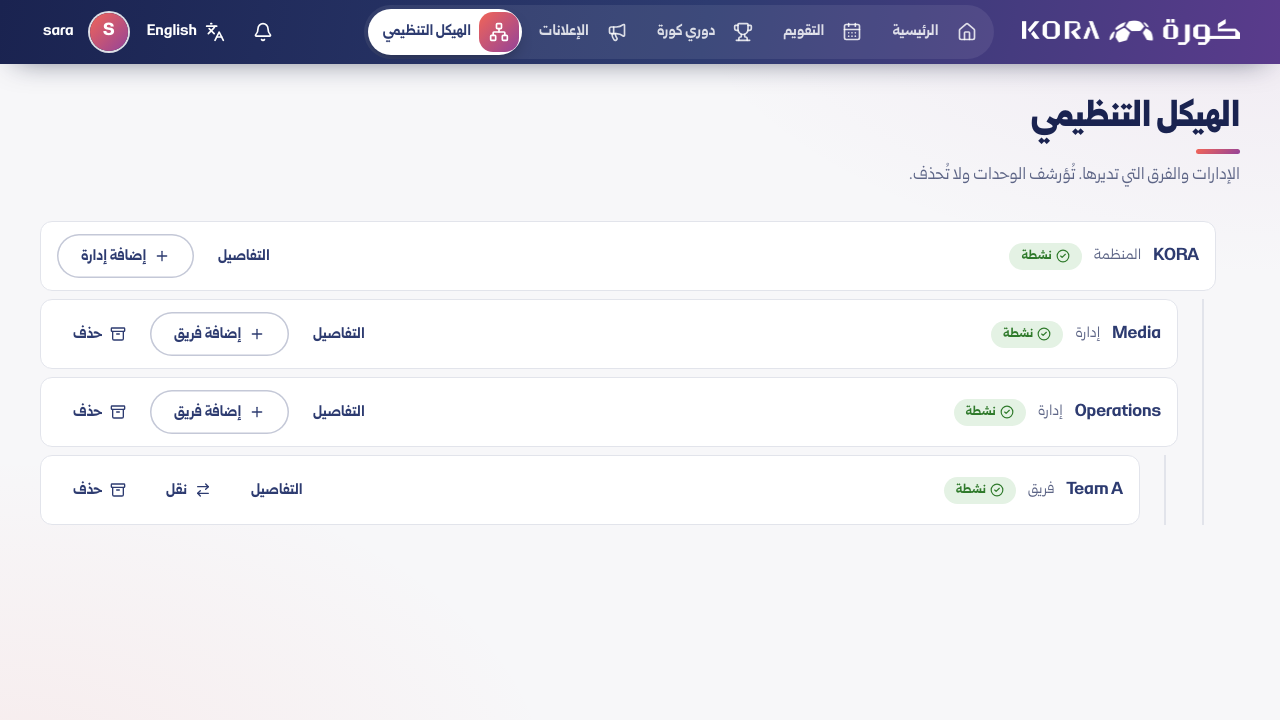
Test: Organization page › explains the effect before archiving and shows the server conflict
Click the button "حذف" in the row of "Operations".
click(100, 412)  # box x1=57 y1=390 x2=142 y2=434
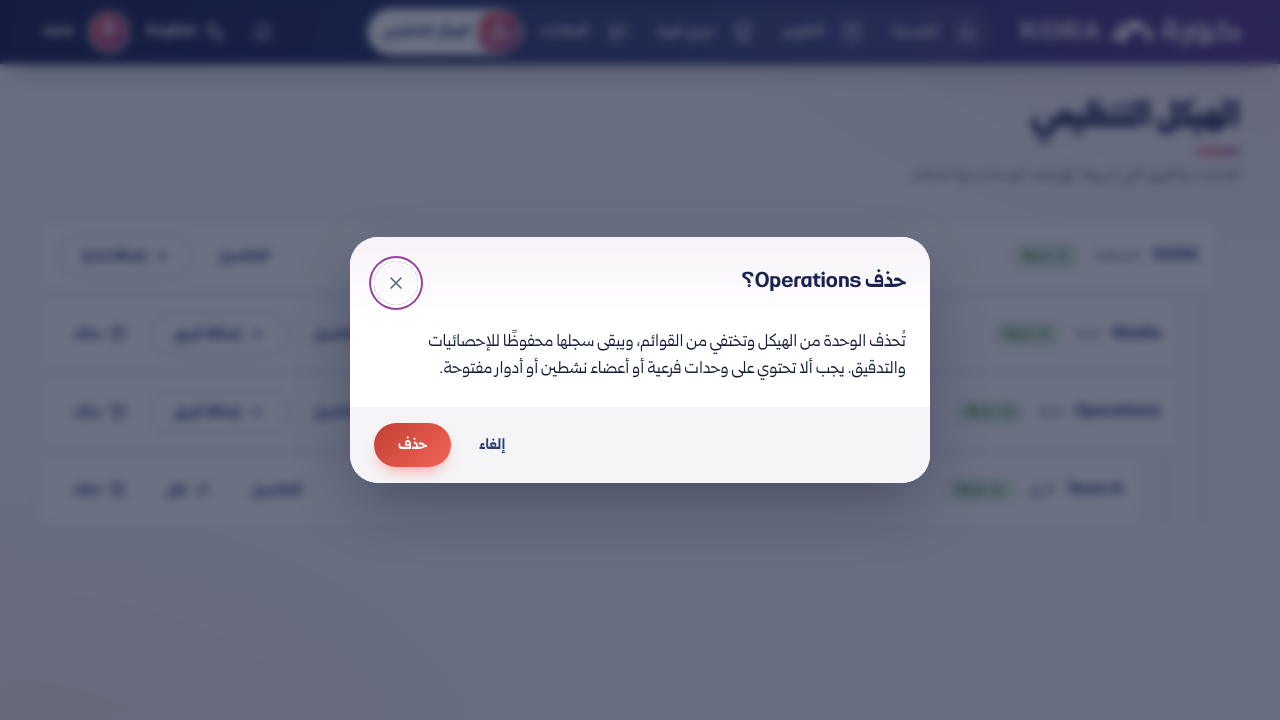
Expected: the text "يبقى سجلها محفوظًا" is shown, x1=428 y1=331 x2=906 y2=381
Click the button "حذف".
click(413, 445)  # box x1=374 y1=423 x2=451 y2=467
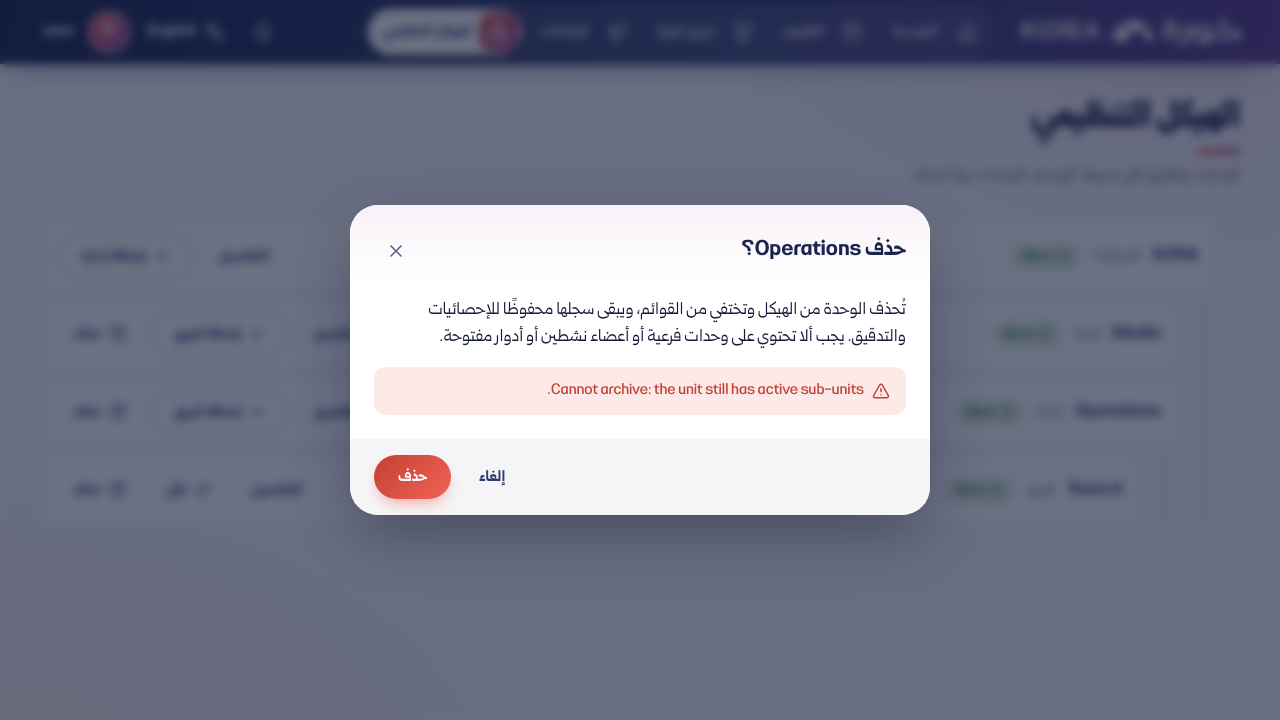
Expected: the message reads "Cannot archive: the unit still has active sub-units.", x1=547 y1=380 x2=864 y2=401
